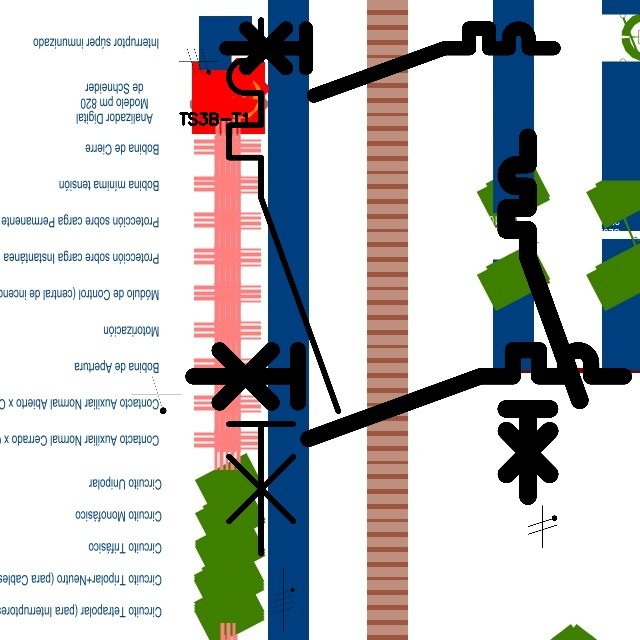interruptor_termomagnetico: (215, 6, 352, 567), (182, 339, 634, 449), (497, 128, 589, 505), (217, 20, 561, 104)
